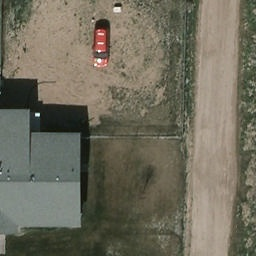car: (93, 28, 110, 68)
